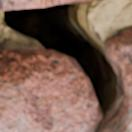brick: (0, 0, 87, 9)
broken_brick: (0, 48, 95, 131), (103, 26, 131, 131)
crack: (0, 0, 129, 131)
